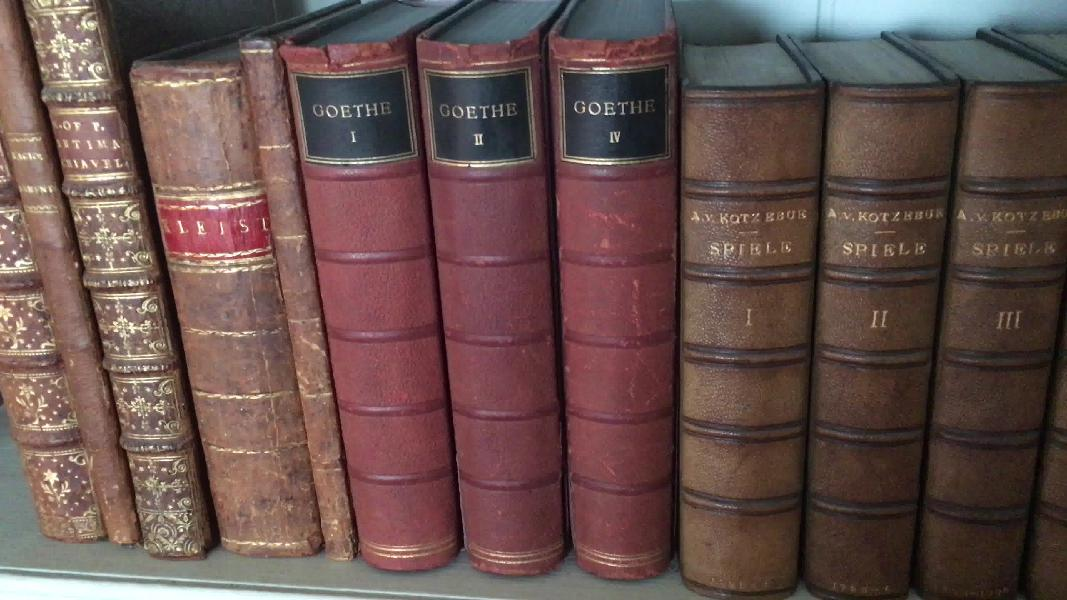Aa6-10: (229, 32, 368, 562)
Aa6-11_13: (282, 38, 683, 595)
Aa6-14_17: (677, 88, 1064, 600)
Aa6-7: (7, 45, 139, 551)
Aa6-8: (24, 3, 251, 554)
Aa6-9: (124, 56, 335, 566)
